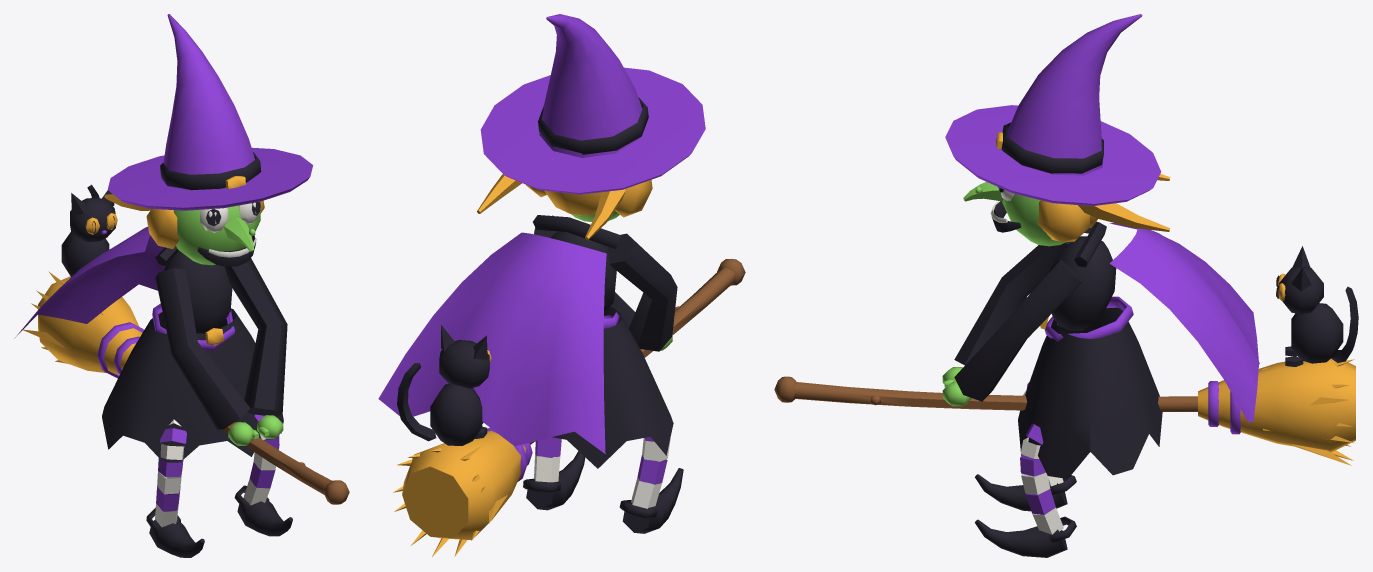
Rendered from witch.glb.
3 renders of one model, left to right at view 1: azimuth 30°, elevation 25°; view 2: azimuth 150°, elevation 25°; view 3: azimuth 270°, elevation 25°, orthographic. The views are drawn at different scales.
Visible parts, largest first — view 1: body, cape, cat; view 2: body, cape, cat; view 3: body, cape, cat.
Part boxes in pixels (<box>): body: <box>21,14,349,557</box>; cape: <box>14,226,179,338</box>; cat: <box>61,184,117,276</box>; body: <box>393,14,745,556</box>; cape: <box>378,215,620,453</box>; cat: <box>397,325,491,445</box>; body: <box>774,14,1355,557</box>; cape: <box>1074,221,1259,422</box>; cat: <box>1276,246,1358,366</box>.
Size of the model in its own units: 0.8 by 1.82 by 1.85.
